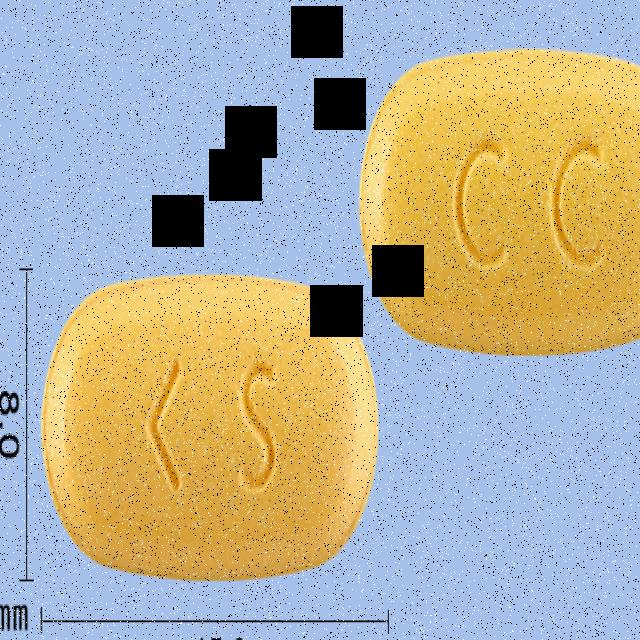Clribio: (41, 276, 381, 578), (359, 41, 640, 348)
